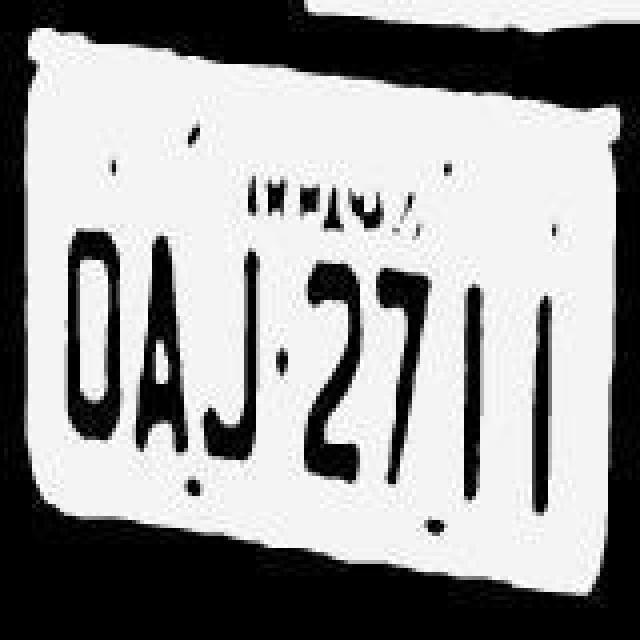1: (514, 292, 566, 556), (446, 274, 498, 534)
2: (290, 258, 366, 510)
7: (368, 264, 432, 504)
A: (126, 206, 194, 458)
J: (192, 238, 264, 466)
O: (50, 200, 126, 456)
